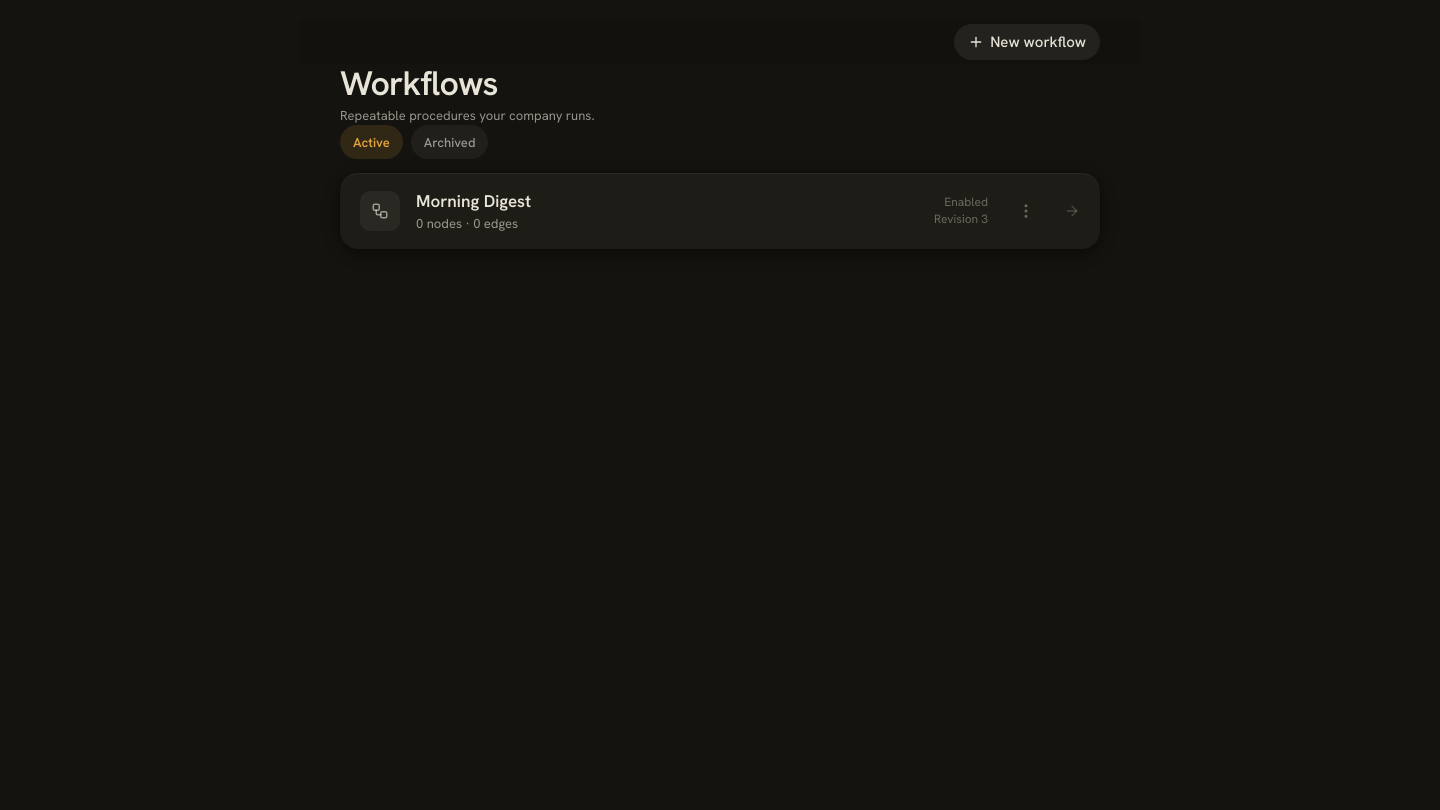
workflow list lifecycle menu › closes the archive confirmation when the write is refused
Click the button named "Workflow actions for Morning Digest" at (1026, 211), box [1004, 189, 1048, 233]
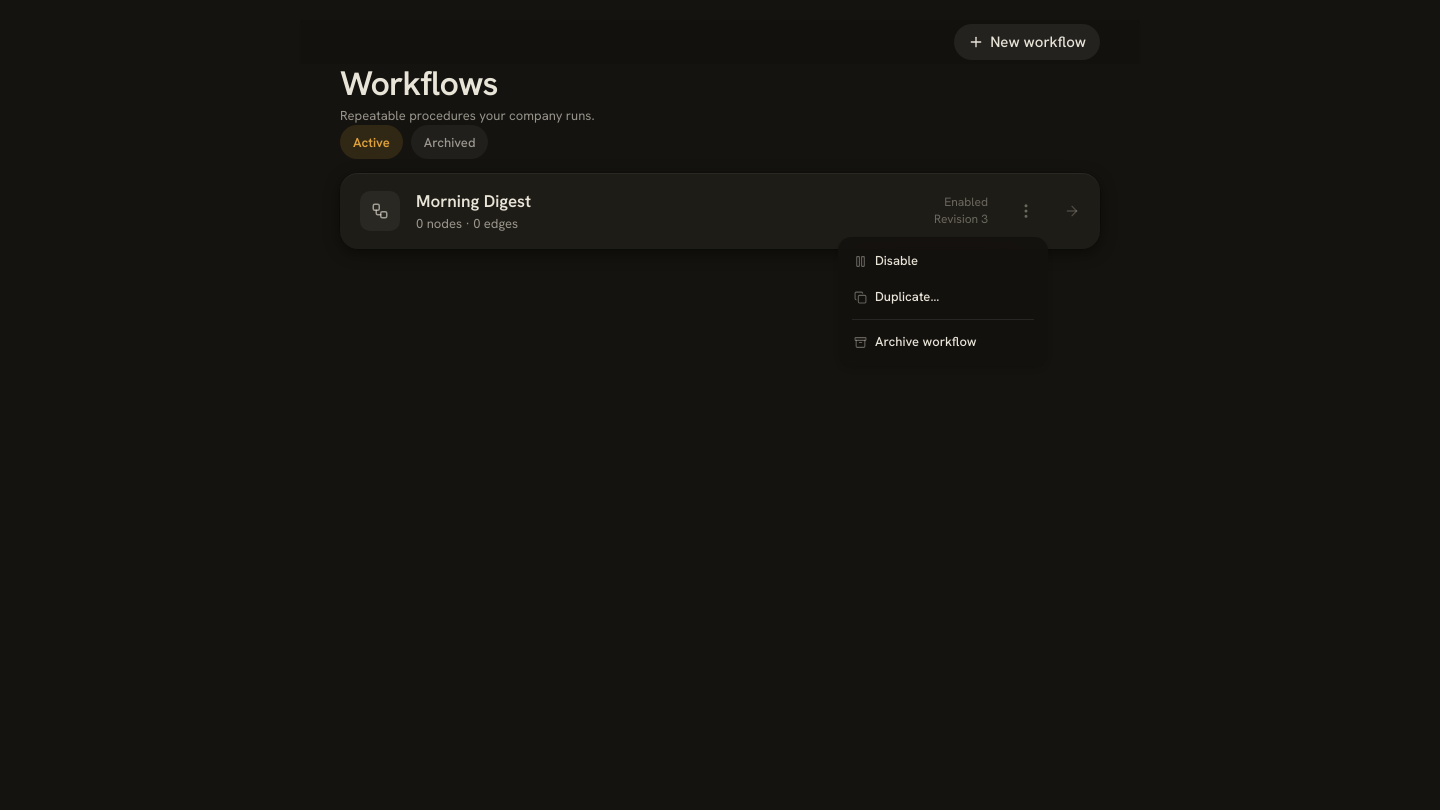
Click the menu item "Archive workflow" at (915, 342), box [854, 333, 976, 350]
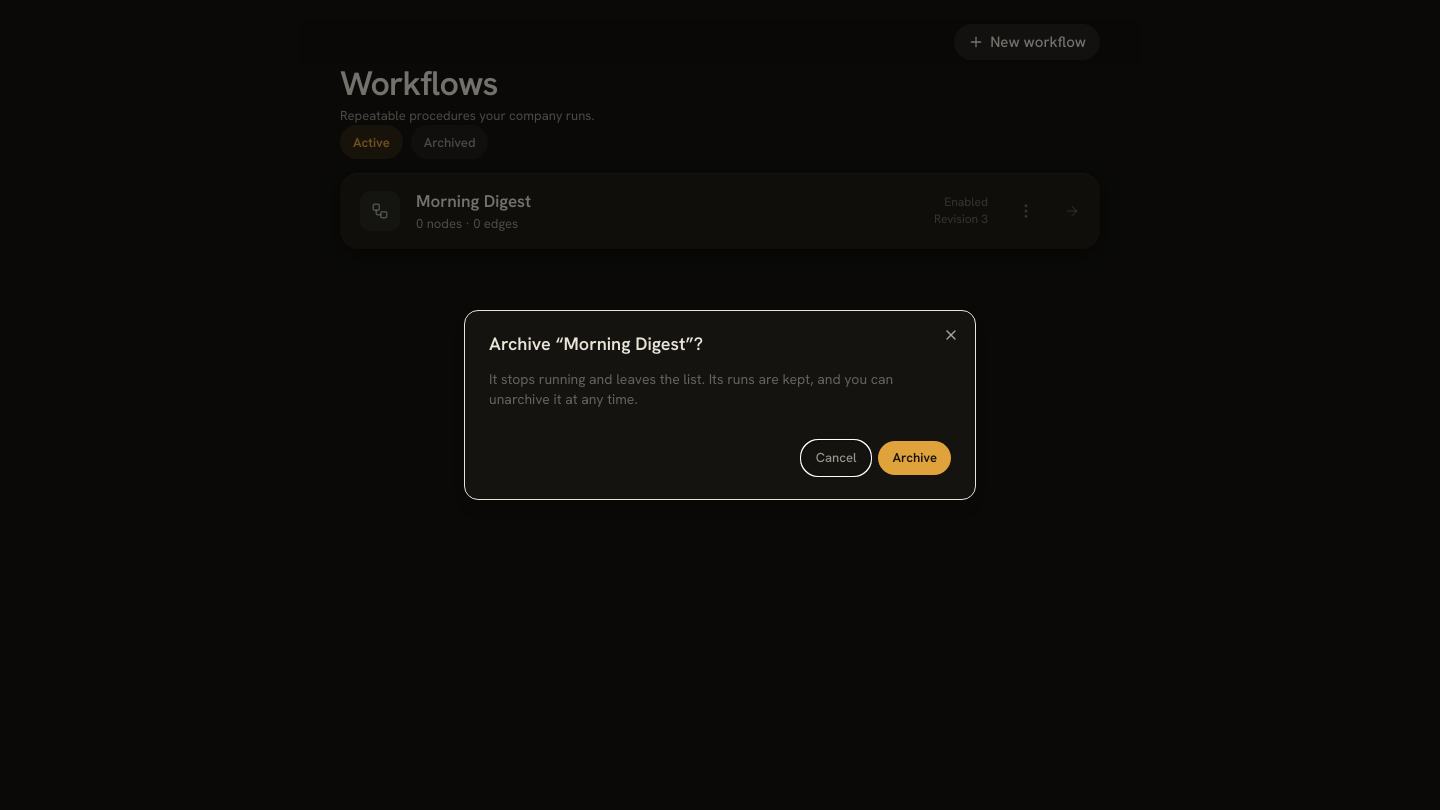
Click the button "Archive" at (915, 458), box [878, 441, 951, 475]
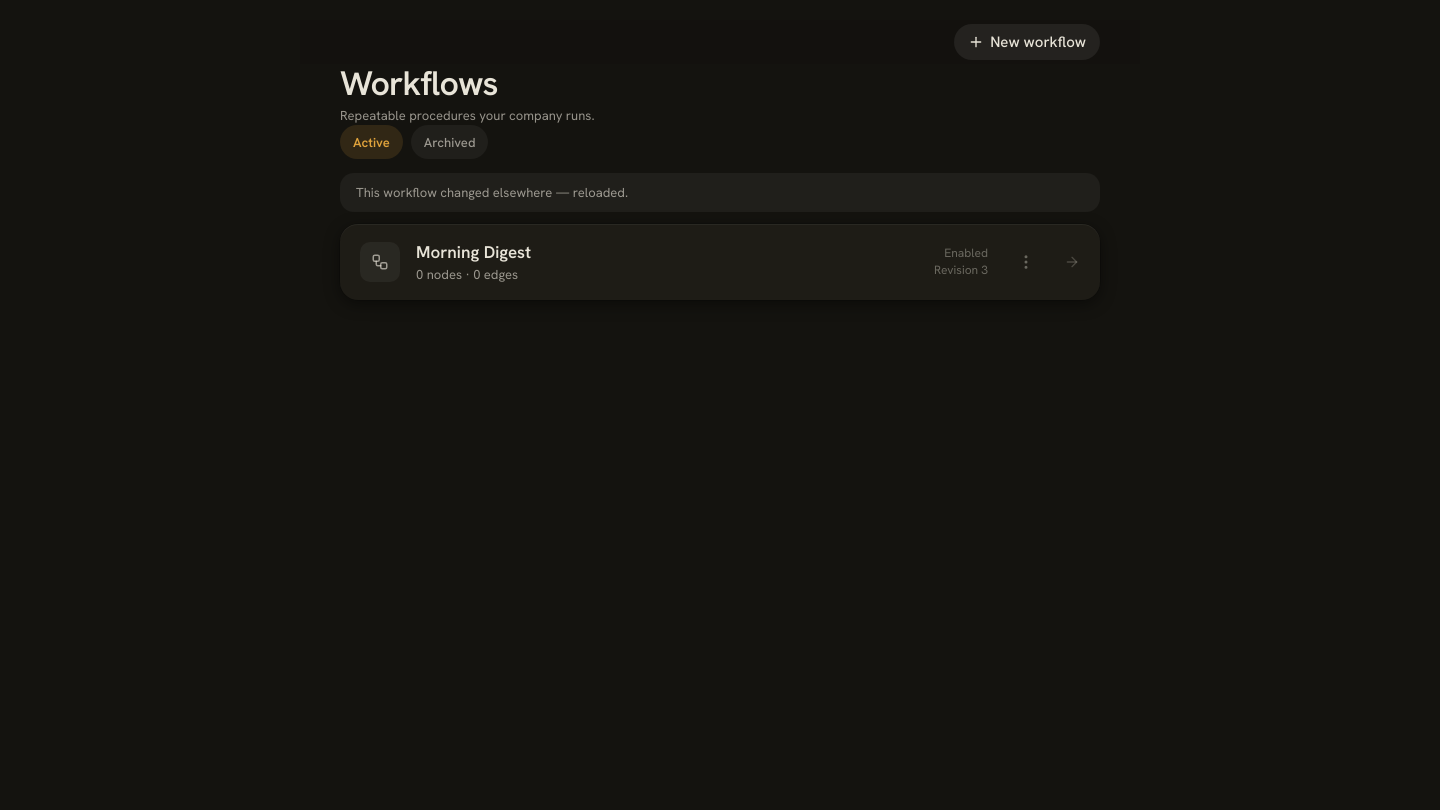
Result: the dialog is gone
Result: the message shows "changed elsewhere" at [356, 184, 628, 201]
